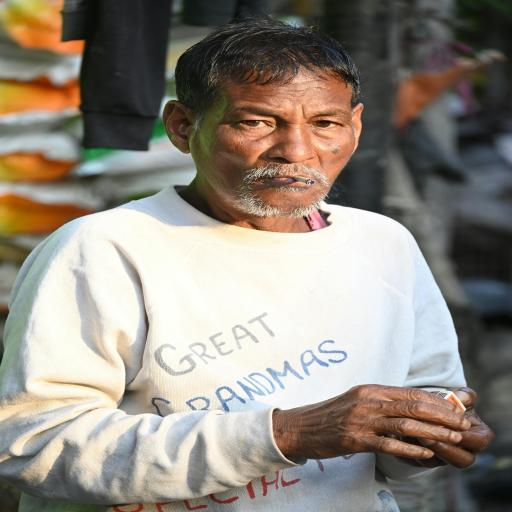dataset-deteksi-merokok: (196, 73, 356, 217)
